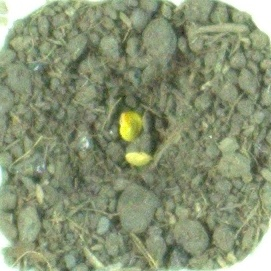chilli seed: (119, 110, 145, 142), (124, 150, 152, 168)
